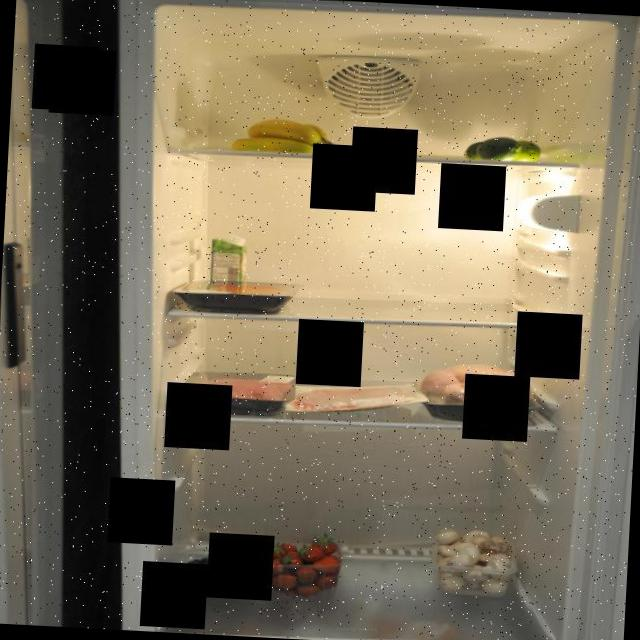Carne cerdo: (295, 381, 416, 417)
Carne pollo: (412, 357, 544, 427)
Carne vacuno: (169, 276, 302, 320), (188, 371, 292, 410)
Champiñones: (422, 524, 522, 606)
Plátano: (230, 114, 348, 160)
blueberries: (182, 549, 258, 597)
heavy_cream: (208, 232, 246, 291)
strawberries: (255, 528, 348, 592)
